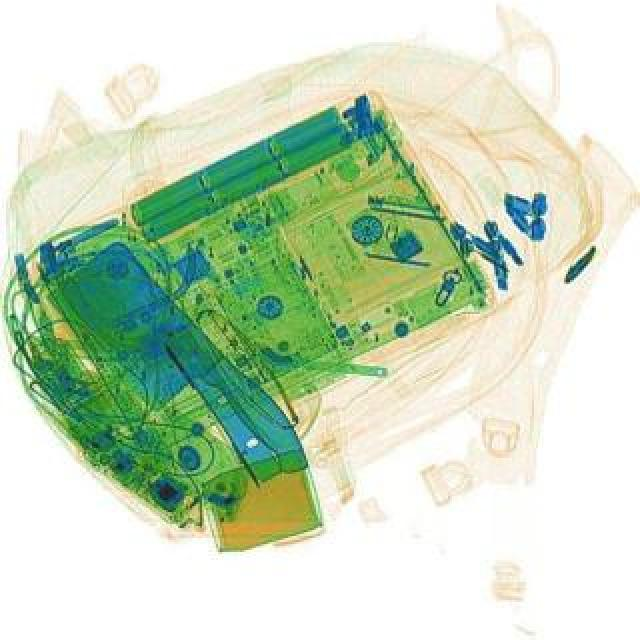knife: (42, 232, 320, 514)
